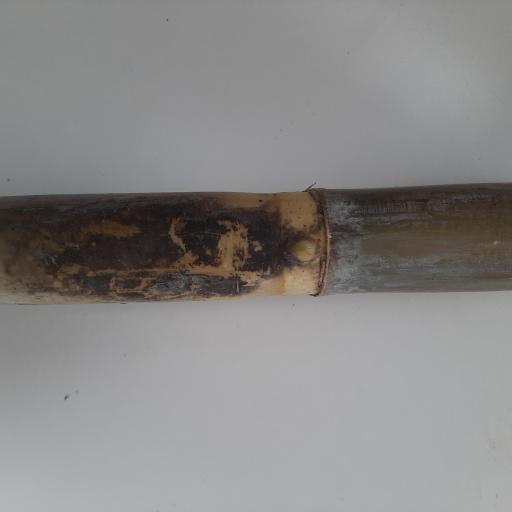Bud: (285, 236, 318, 265)
